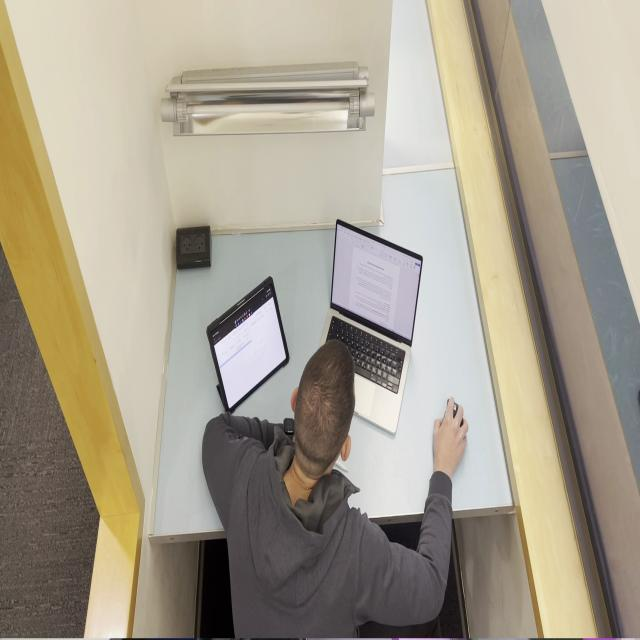bag: (205, 274, 290, 415)
ipad: (201, 339, 468, 639)
laptop: (318, 218, 424, 436)
